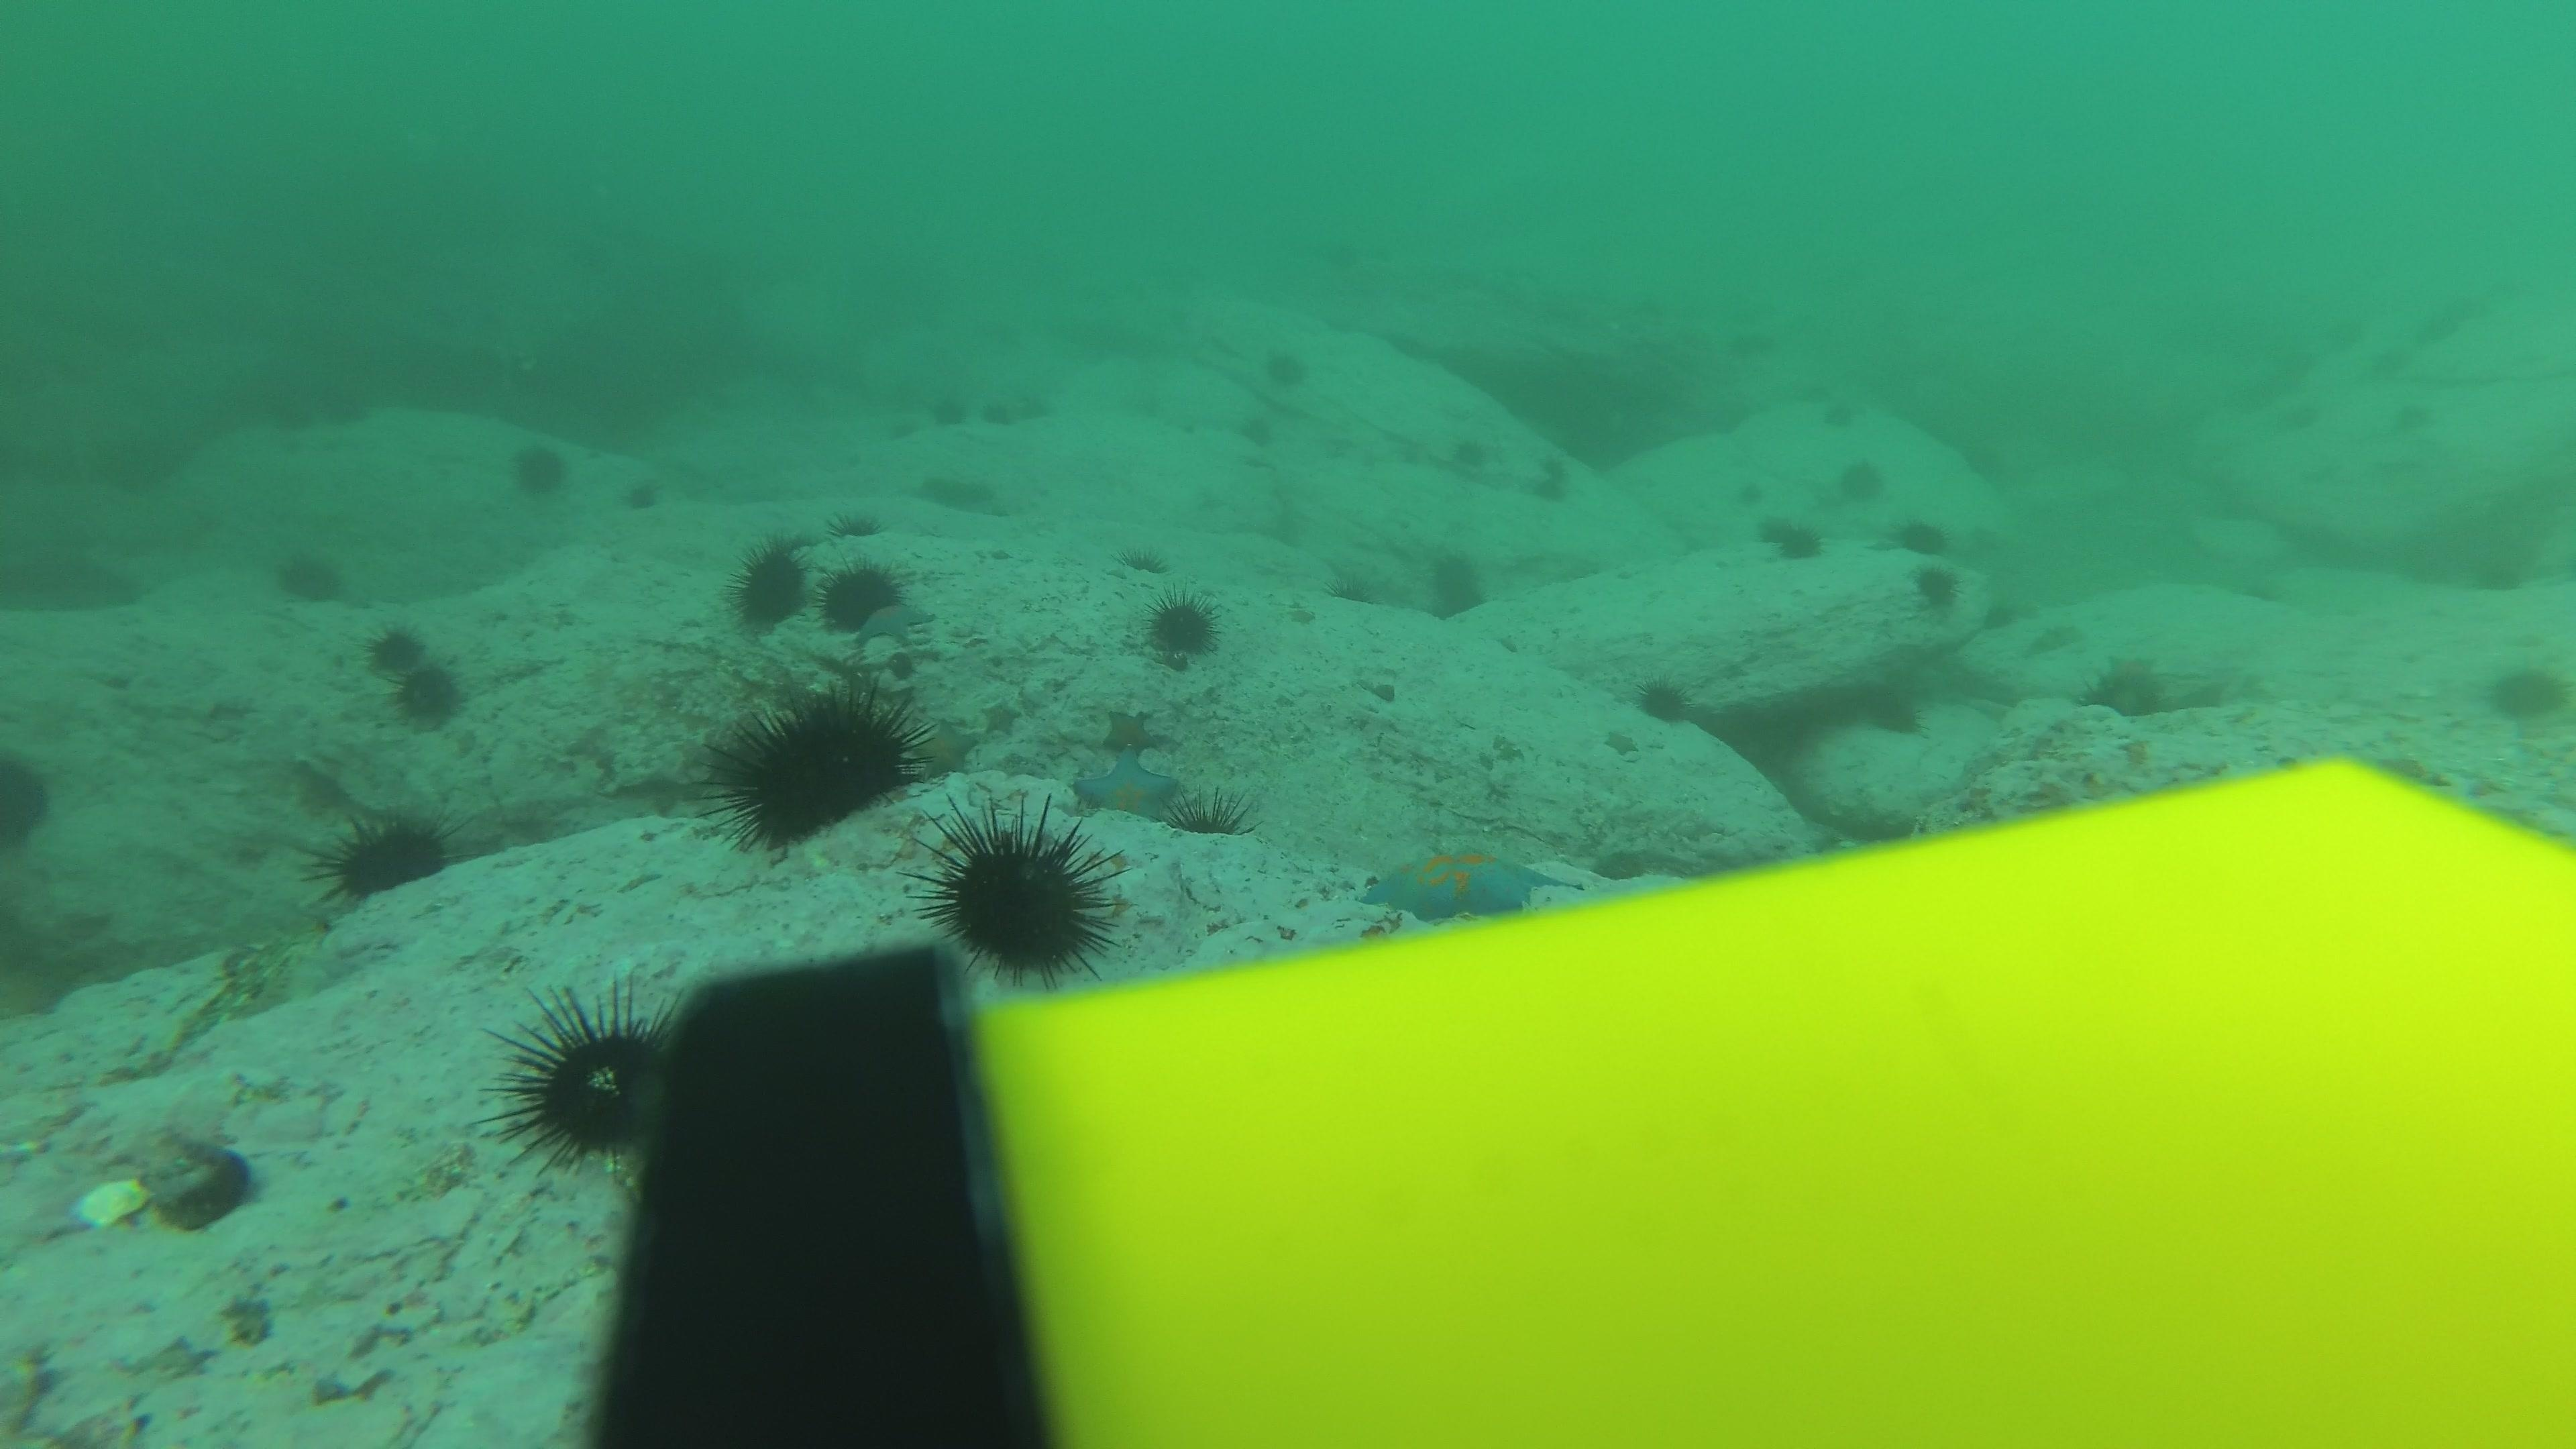echinus: (709, 683, 929, 853), (494, 980, 683, 1171), (920, 801, 1118, 980), (317, 809, 453, 906), (727, 538, 809, 630), (816, 554, 906, 633), (1139, 589, 1221, 667), (2482, 655, 2569, 727), (0, 747, 55, 856), (2084, 653, 2171, 722), (391, 660, 465, 727), (271, 543, 347, 609), (1169, 782, 1251, 839), (506, 435, 571, 502), (1631, 671, 1691, 725), (1865, 688, 1928, 738), (1907, 561, 1962, 616), (366, 625, 423, 674), (1437, 587, 1491, 630), (1422, 545, 1477, 587), (329, 386, 382, 428), (271, 396, 324, 439), (1776, 527, 1826, 566), (1835, 458, 1884, 497), (1116, 543, 1169, 579), (826, 510, 879, 545), (1757, 511, 1806, 548), (1900, 517, 1950, 554), (1322, 573, 1373, 609), (1269, 349, 1316, 386), (1976, 598, 2024, 630), (2371, 347, 2419, 379), (2270, 403, 2318, 435), (2401, 403, 2449, 433), (2411, 317, 2459, 347), (2318, 317, 2365, 347), (2268, 350, 2316, 380), (1238, 416, 1283, 448), (1822, 400, 1861, 433), (1718, 334, 1757, 368), (934, 400, 970, 432), (980, 402, 1014, 433), (621, 485, 656, 515), (1017, 391, 1053, 421), (886, 418, 922, 448), (1532, 474, 1568, 502), (1541, 453, 1576, 479), (1451, 442, 1484, 469)
starfish: (1359, 839, 1599, 927), (1070, 754, 1185, 824), (906, 713, 982, 777), (292, 750, 350, 814), (856, 598, 932, 644), (1099, 704, 1157, 755), (977, 694, 1026, 738)
